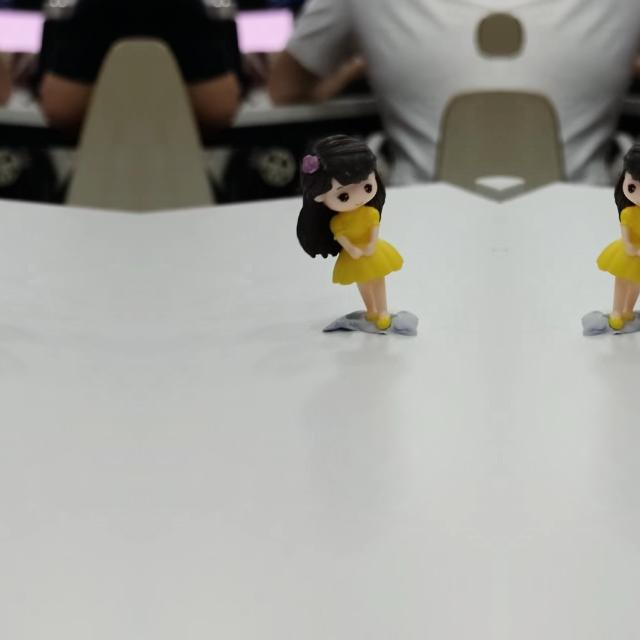woman head: (295, 130, 379, 212), (621, 129, 640, 212)
